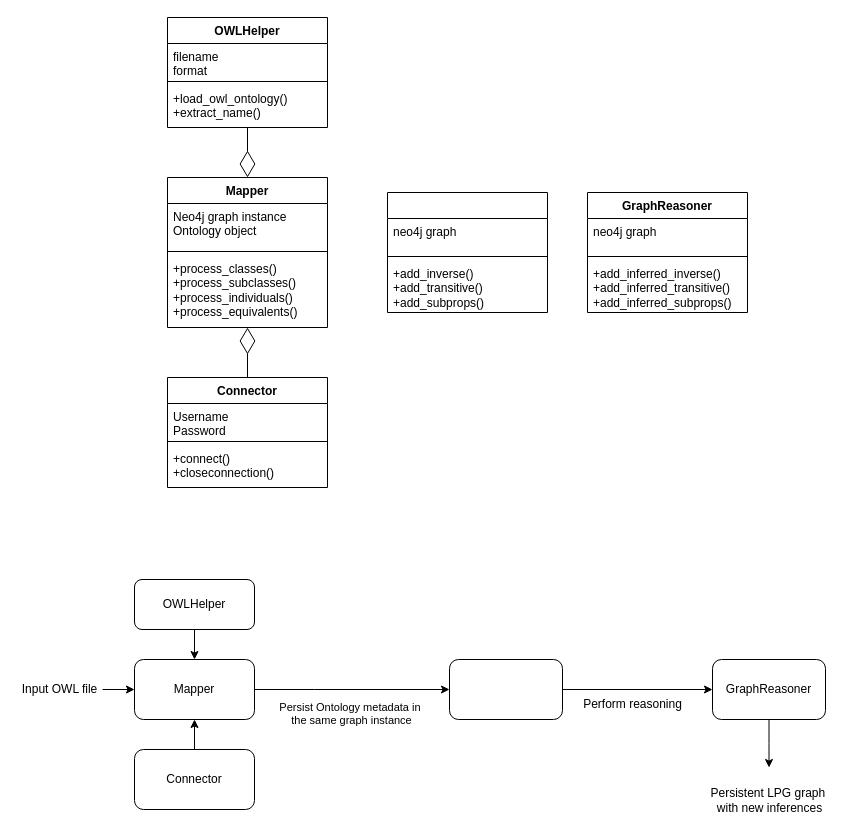
The diagram is 856 pixels wide and 838 high, and some of its shapes have lost their labels. Each missing label, with the box of its shape:
Add GraphMetaData: (448, 658, 562, 720)
GraphMetaData: (386, 192, 548, 312)
